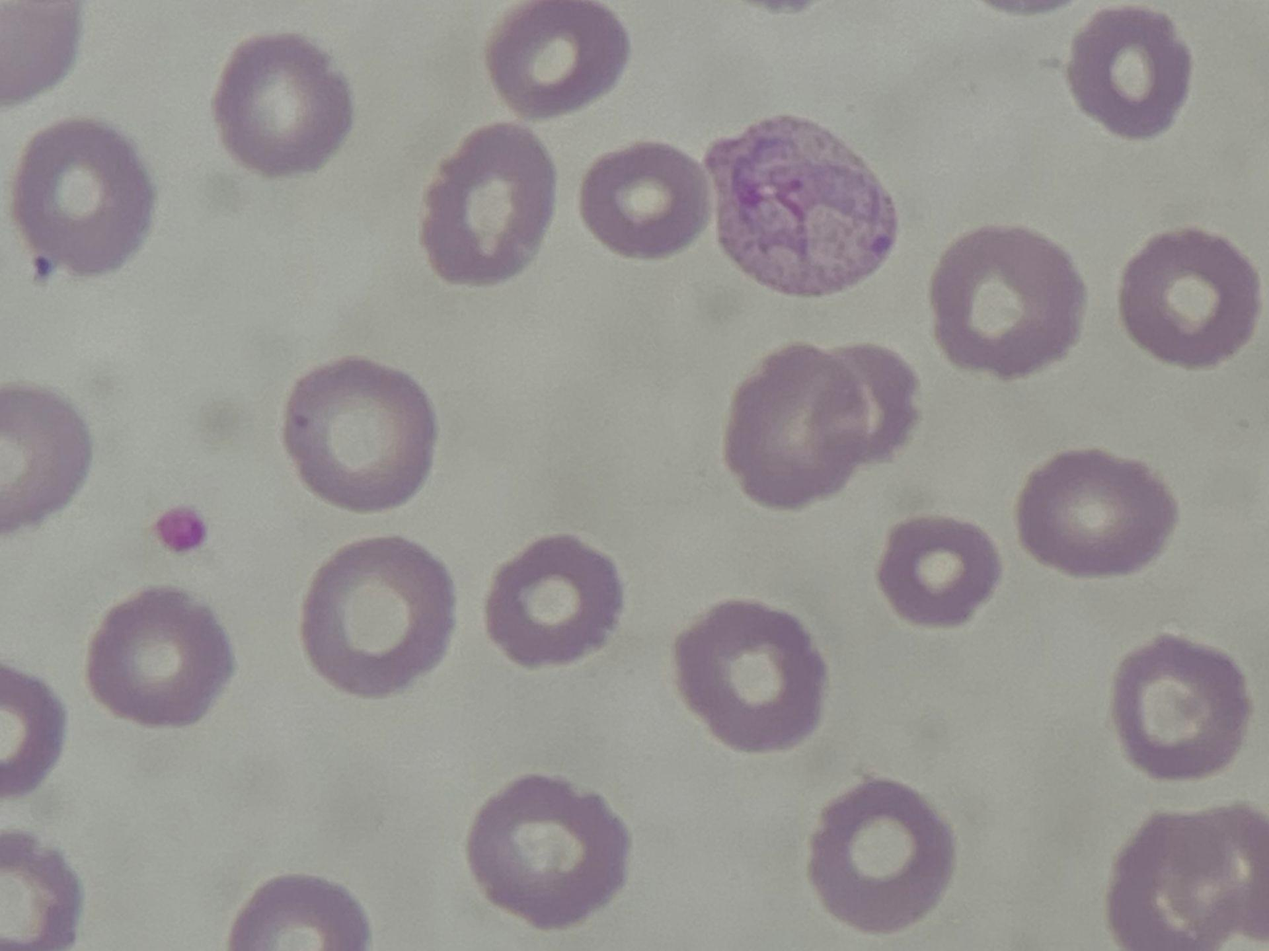Infected: (372, 653, 566, 835)
Uninfected: (641, 22, 801, 179), (811, 255, 969, 413), (397, 441, 542, 609), (833, 440, 985, 594), (443, 195, 595, 348), (185, 574, 340, 723), (311, 14, 457, 169), (714, 666, 846, 825), (1118, 676, 1253, 829), (1034, 225, 1180, 365), (93, 374, 250, 500), (915, 774, 1052, 917), (5, 584, 148, 720), (23, 171, 159, 313), (25, 0, 163, 138), (648, 281, 784, 415), (638, 831, 783, 950), (74, 813, 198, 948), (347, 481, 469, 608), (560, 694, 687, 808), (266, 324, 390, 434), (1176, 422, 1269, 568)
